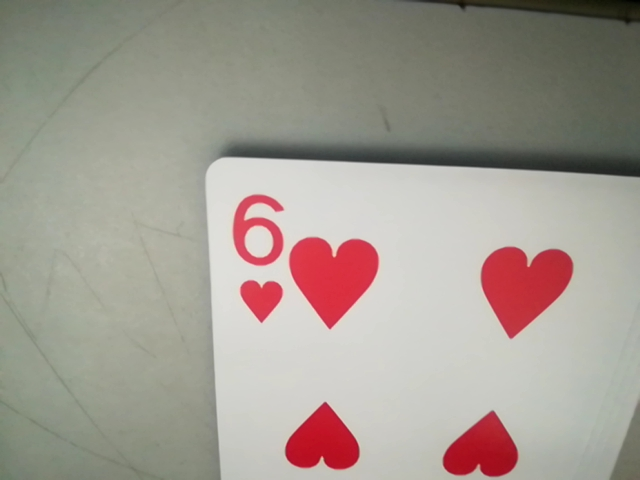hx 6: (213, 193, 292, 326)
